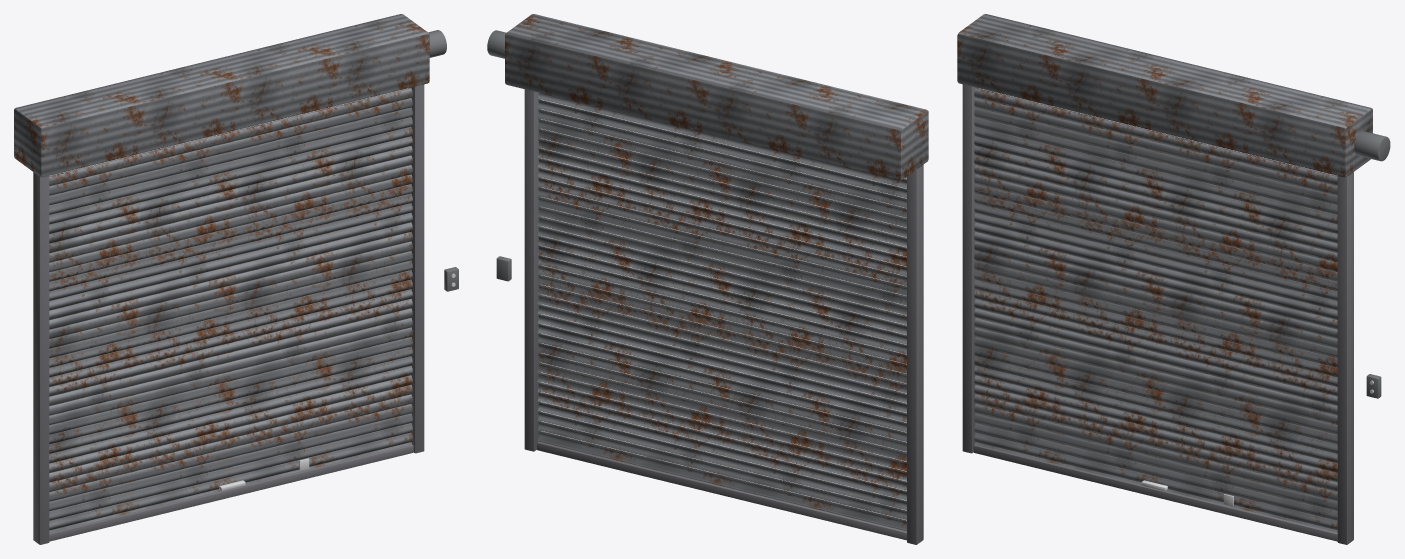
Rendered from RollingShutter.fbx.
3 renders of one model, left to right at view 1: azimuth 30°, elevation 25°; view 2: azimuth 150°, elevation 25°; view 3: azimuth 330°, elevation 25°, orthographic.
Visible parts, largest first — view 1: ShutterCurtain, ShutterFrame; view 2: ShutterCurtain, ShutterFrame; view 3: ShutterCurtain, ShutterFrame.
Boxes of the visible parts, x1,y1,x2,y2 form: ShutterCurtain: (49, 88, 413, 541); ShutterFrame: (14, 14, 458, 544); ShutterCurtain: (537, 93, 906, 540); ShutterFrame: (487, 14, 928, 544); ShutterCurtain: (973, 88, 1337, 541); ShutterFrame: (957, 14, 1390, 544).
Bounding box in the file's own units: 3.45 × 3.3 × 0.4.
